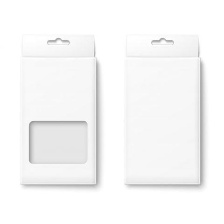plastic_box: (115, 24, 210, 194), (10, 24, 105, 192)
